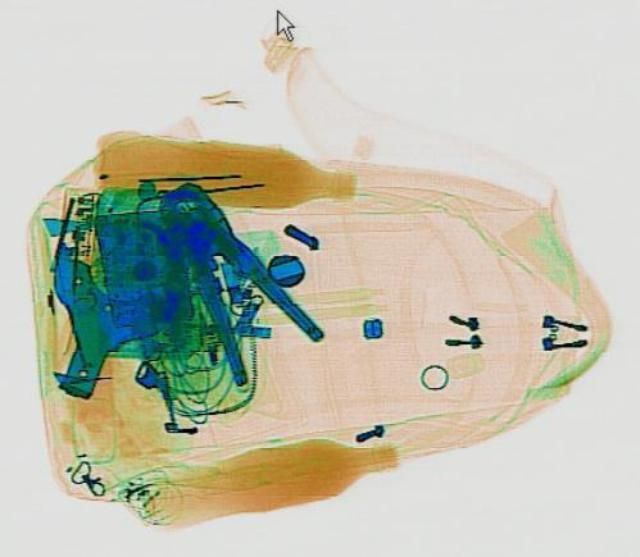Pliers: (124, 167, 332, 386)
